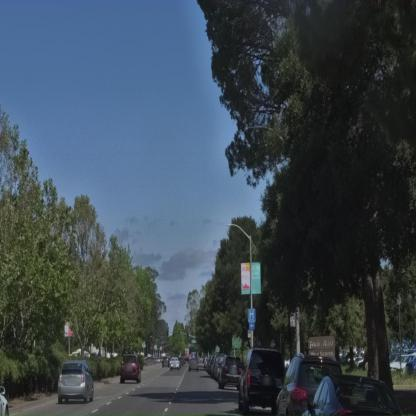car: (270, 359, 415, 416), (236, 348, 286, 416), (58, 362, 95, 406), (219, 355, 245, 390), (119, 356, 140, 382), (213, 353, 229, 381), (188, 356, 199, 372), (169, 358, 180, 369)
person: (1, 384, 10, 416)
sign: (241, 259, 262, 296), (249, 308, 257, 332)
